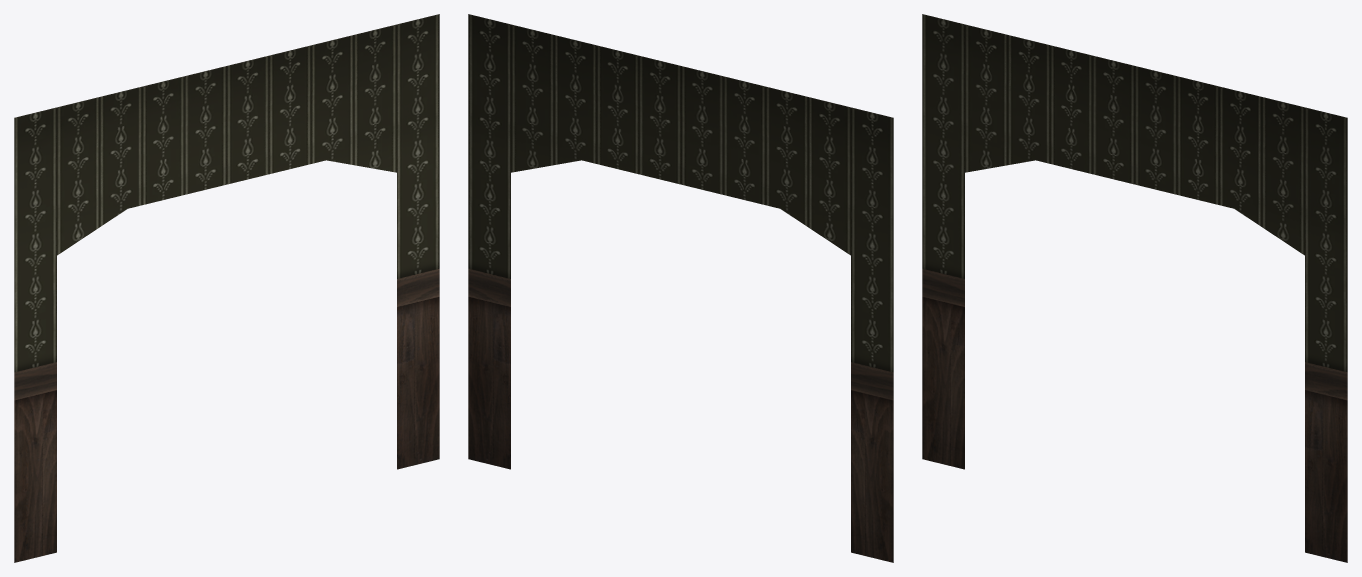
The model's file is Wall.WP_3x3_Archway.Big.fbx.
The picture shows the model from 3 angles, left to right: view 1: azimuth 30°, elevation 25°; view 2: azimuth 150°, elevation 25°; view 3: azimuth 330°, elevation 25°; orthographic projection.
Parts seen in each view (by area): view 1: Wall.WP_3x3_Archway.Big; view 2: Wall.WP_3x3_Archway.Big; view 3: Wall.WP_3x3_Archway.Big.
Boxes of the visible parts, bbox=[...] form: Wall.WP_3x3_Archway.Big: bbox=[14, 14, 439, 562]; Wall.WP_3x3_Archway.Big: bbox=[468, 14, 893, 562]; Wall.WP_3x3_Archway.Big: bbox=[922, 14, 1347, 562].
Bounding box in the file's own units: 300 × 300 × 4.01e-05.
